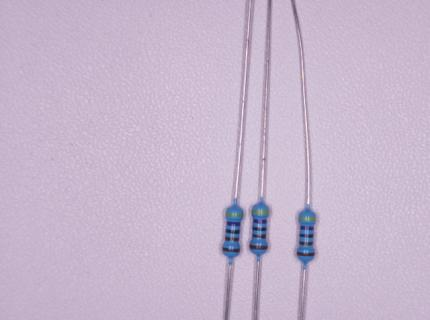Black band: (226, 229, 240, 234), (252, 227, 266, 231), (300, 234, 313, 238)
Brown band: (223, 247, 240, 253), (250, 245, 267, 250), (297, 252, 314, 257), (225, 236, 239, 241), (299, 241, 313, 246), (253, 234, 266, 239)
Violet band: (300, 225, 314, 231), (253, 219, 267, 224), (227, 222, 240, 226)
Yellow band: (226, 213, 243, 217), (252, 210, 269, 214), (299, 217, 316, 221)
